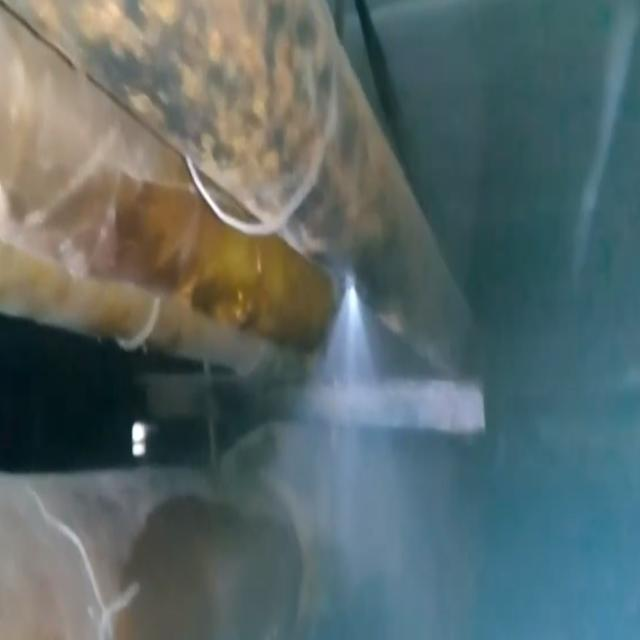leak: (308, 281, 375, 425)
